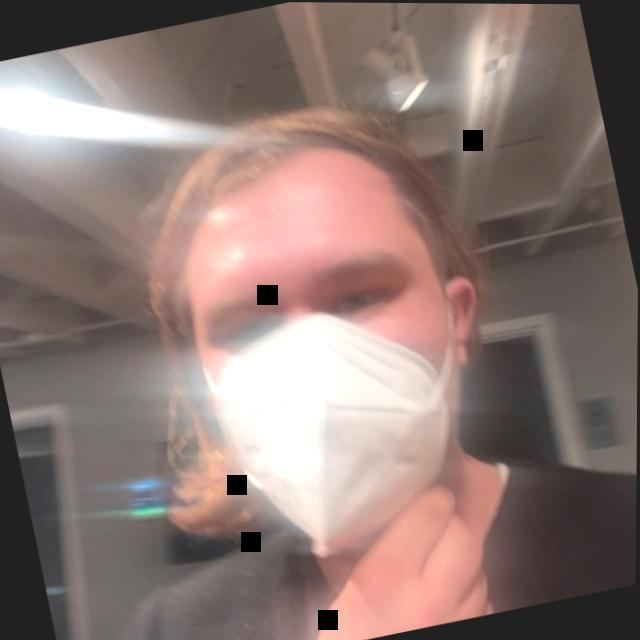Mask: (60, 47, 563, 582)
